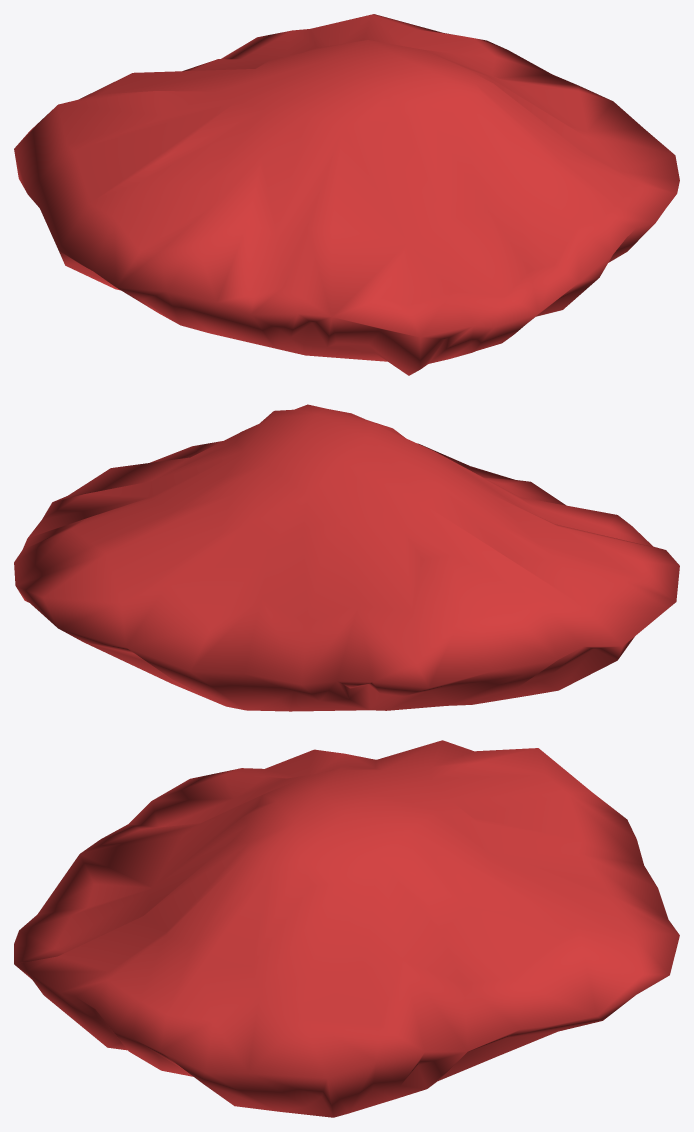
Rendered from SM_mushroom_red_02.fbx.
The picture shows the model from 3 angles, top to bottom: view 1: azimuth 30°, elevation 25°; view 2: azimuth 150°, elevation 25°; view 3: azimuth 270°, elevation 25°; orthographic projection. The views are drawn at different scales.
Visible parts, largest first — view 1: mushroom_red_02; view 2: mushroom_red_02; view 3: mushroom_red_02.
Part boxes in pixels (x1=…): mushroom_red_02: x1=14, y1=14, x2=679, y2=375; mushroom_red_02: x1=14, y1=404, x2=679, y2=711; mushroom_red_02: x1=14, y1=740, x2=679, y2=1117.
Bounding box in the file's own units: 443 × 166 × 417.
